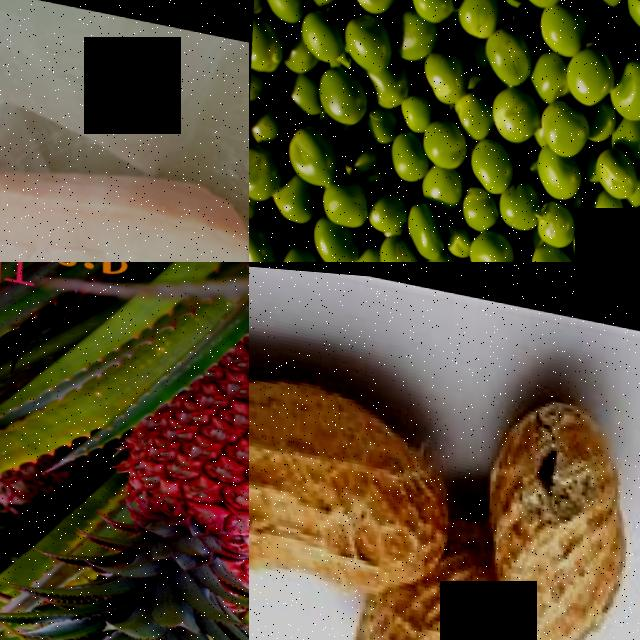peanuts: (249, 331, 457, 614), (431, 365, 640, 640), (308, 577, 510, 640)
peas: (249, 0, 640, 262)
pineapple: (81, 362, 249, 593)
pork belly: (0, 136, 249, 262), (0, 119, 129, 262)
